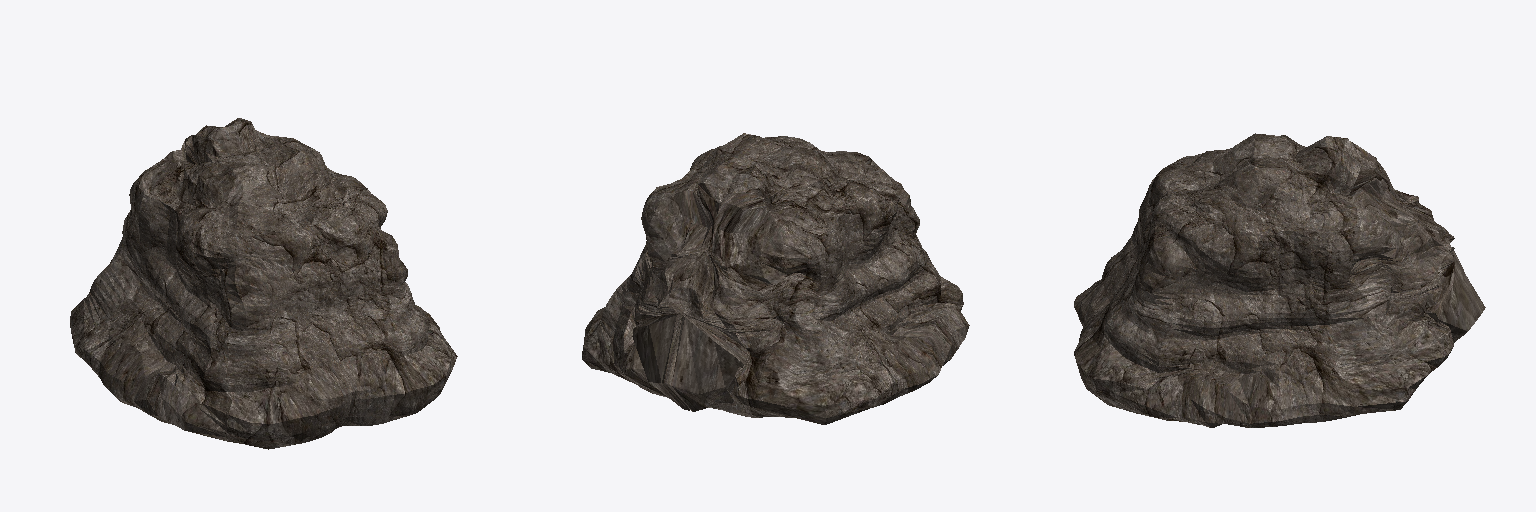
The picture shows the model from 3 angles: view 1: azimuth 30°, elevation 25°; view 2: azimuth 150°, elevation 25°; view 3: azimuth 270°, elevation 25°; orthographic projection.
Parts seen in each view (by area): view 1: Cube; view 2: Cube; view 3: Cube.
Boxes of the visible parts, x1,y1,x2,y2 form: Cube: [70, 118, 457, 449]; Cube: [582, 133, 969, 424]; Cube: [1074, 133, 1485, 427].
Size of the model in its own units: 12.07 by 8.44 by 13.82.
1 materials, 1 textured.